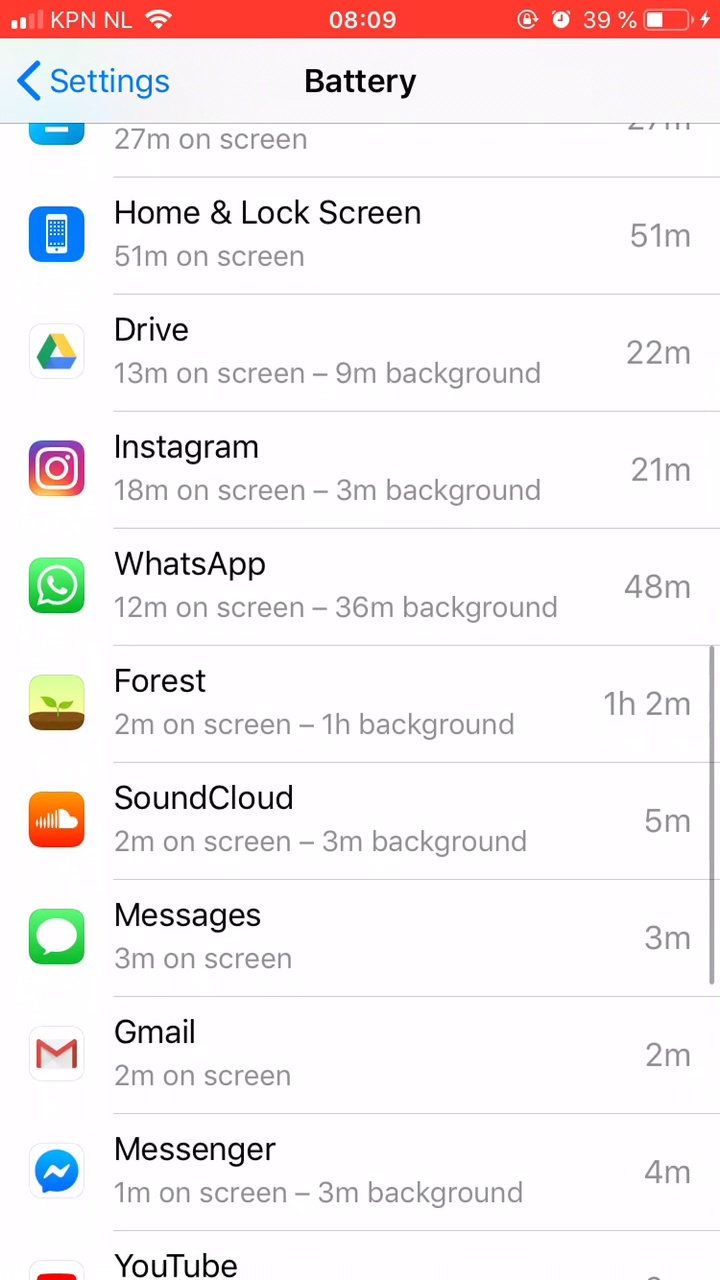app: (24, 185, 707, 276), (26, 301, 709, 392), (19, 425, 702, 516), (22, 539, 705, 630), (20, 658, 703, 749), (23, 774, 706, 865), (19, 893, 702, 984), (19, 1005, 702, 1096), (28, 1129, 711, 1220)
